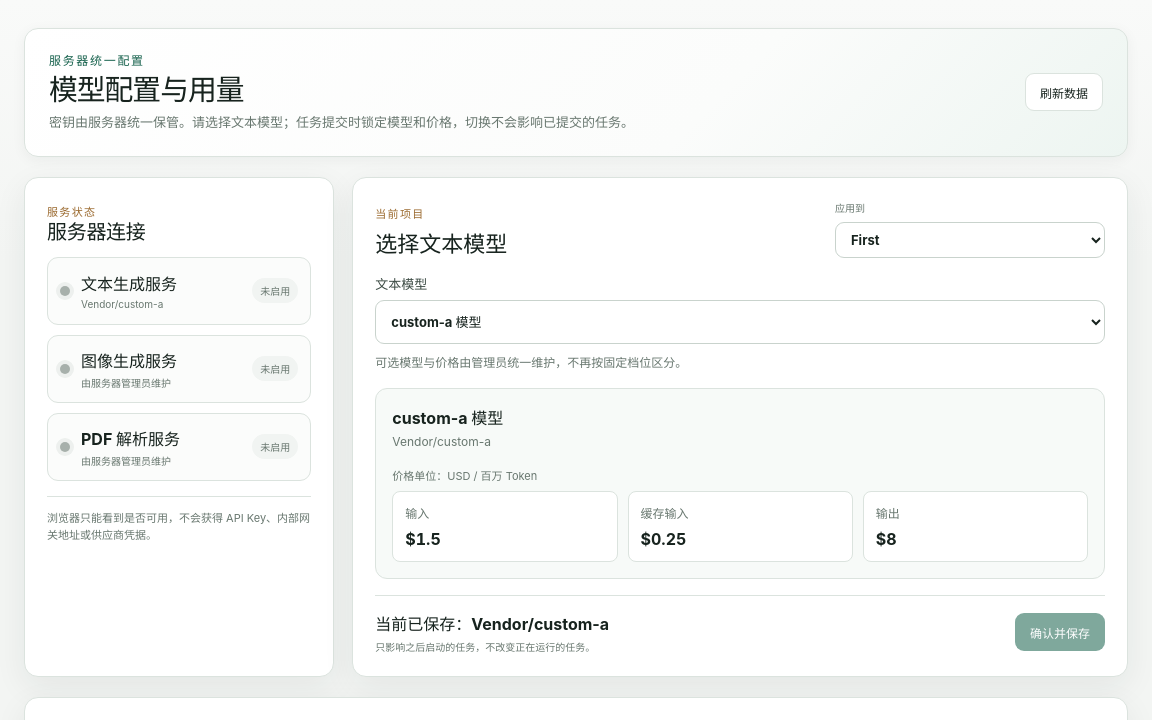
Test case: uses the shared dynamic options, exposes cached input price, and saves the exact model ID
Step 1. Select "custom-b 模型" in the dropdown labelled "文本模型" → x=740, y=322, box x1=375 y1=300 x2=1105 y2=344
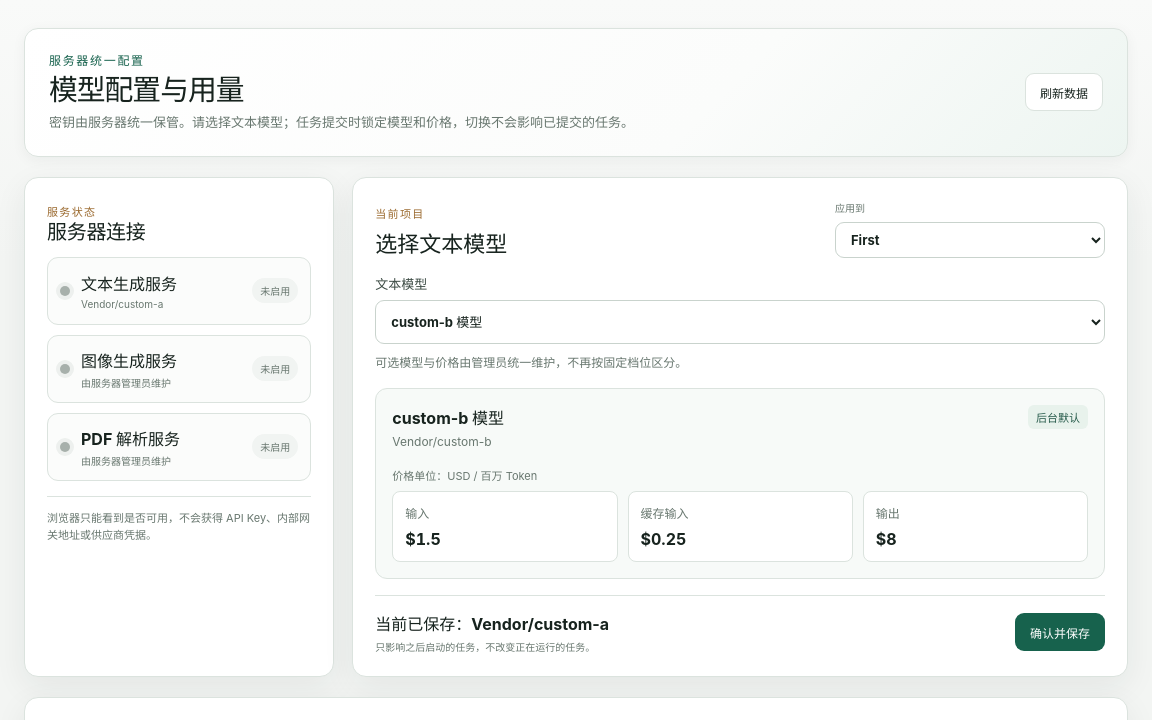
Expected: the text "$0.25" is shown, x1=640 y1=529 x2=686 y2=549
Now the text "后台默认" is shown, box x1=1028 y1=405 x2=1088 y2=429
Step 2. Click the button "确认并保存" → x=1060, y=632, box x1=1015 y1=613 x2=1105 y2=651
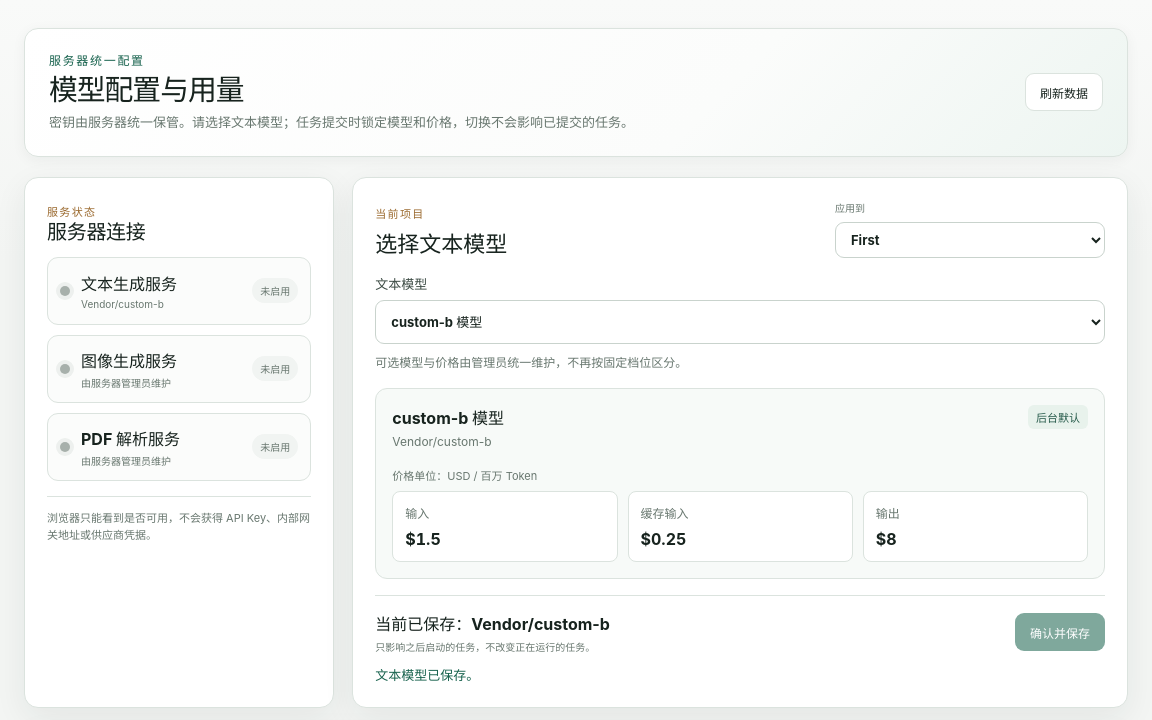
Now the text "文本模型已保存。" is shown, box x1=375 y1=667 x2=479 y2=683
